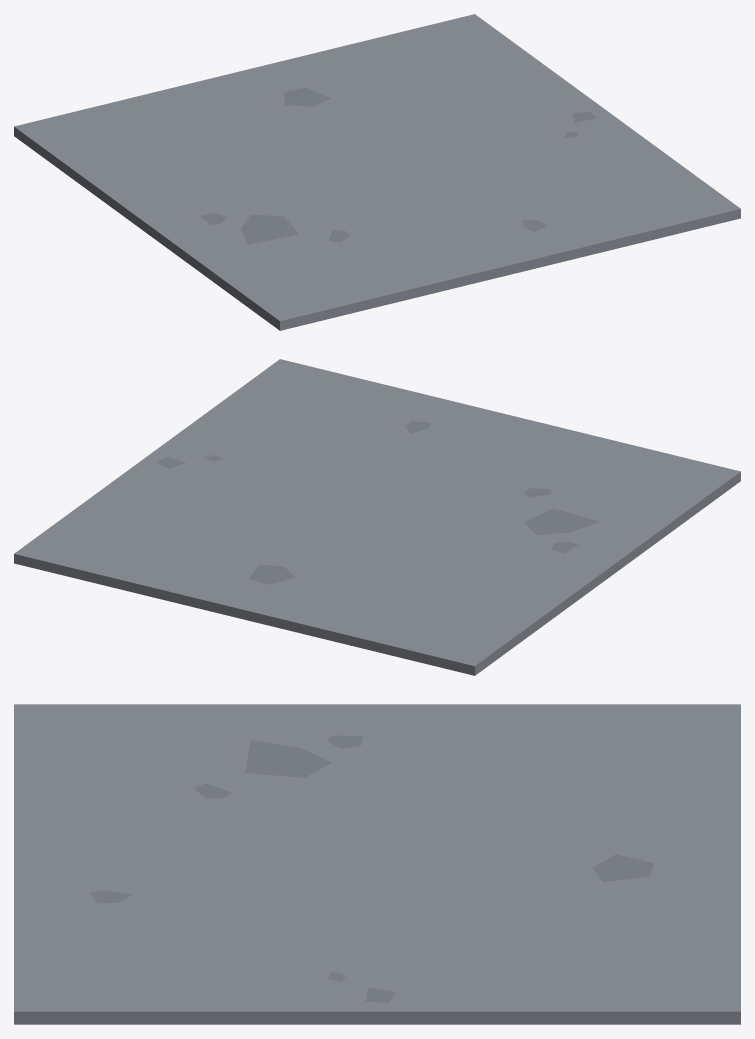
File: Floor_03.fbx
The picture shows the model from 3 angles, top to bottom: view 1: azimuth 30°, elevation 25°; view 2: azimuth 150°, elevation 25°; view 3: azimuth 270°, elevation 25°; orthographic projection. The views are drawn at different scales.
Visible parts, largest first — view 1: Floor_03_LOD0; view 2: Floor_03_LOD0; view 3: Floor_03_LOD0.
Part boxes in pixels (x1,y1,x2,y2): Floor_03_LOD0: [14, 14, 740, 330]; Floor_03_LOD0: [14, 359, 740, 675]; Floor_03_LOD0: [14, 704, 740, 1024].
Size of what is drawn, in the model's own units: 500 by 10 by 500.
